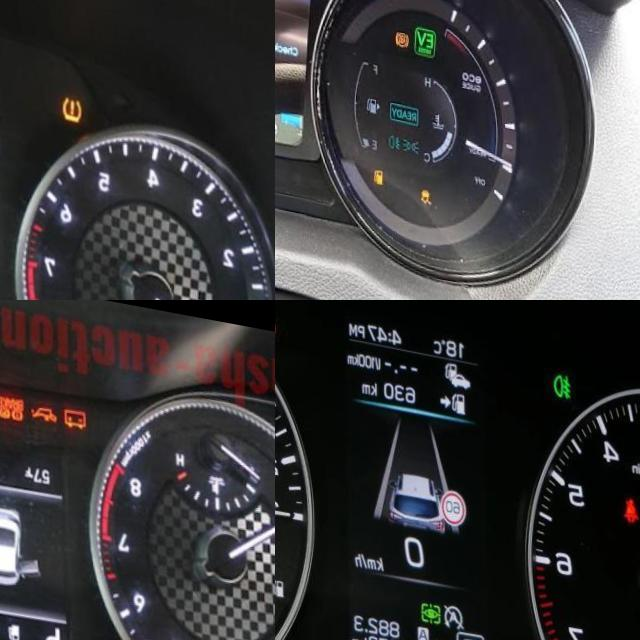Seat Belt: (624, 477, 639, 505)
